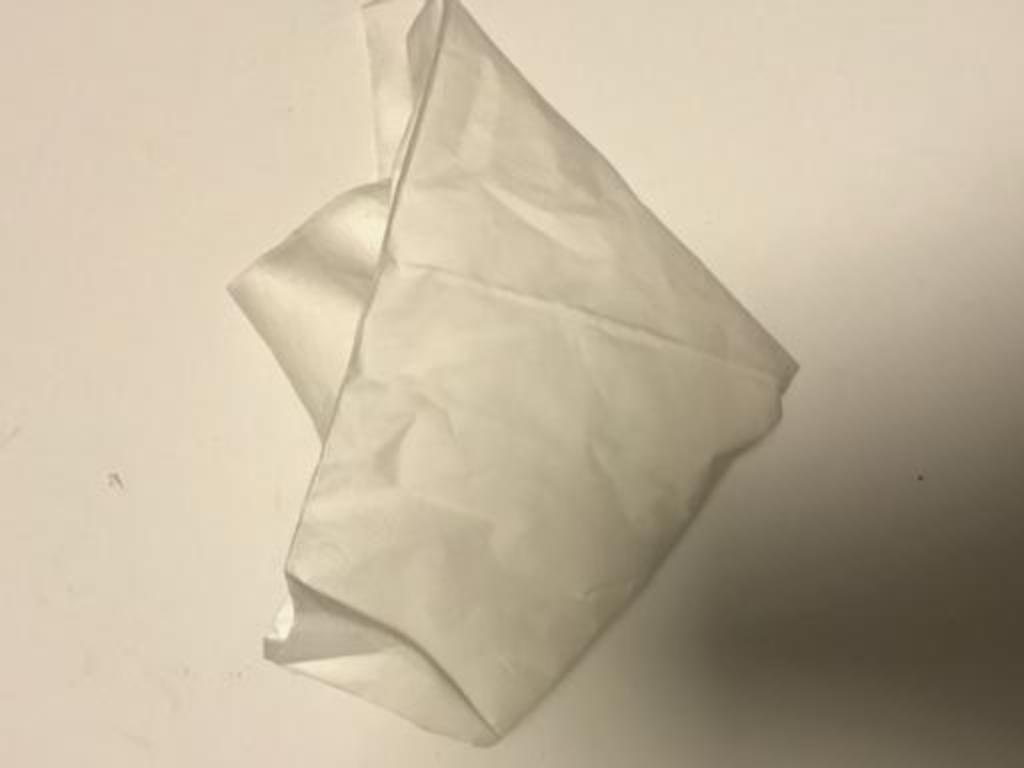garbage: (205, 6, 809, 752)
